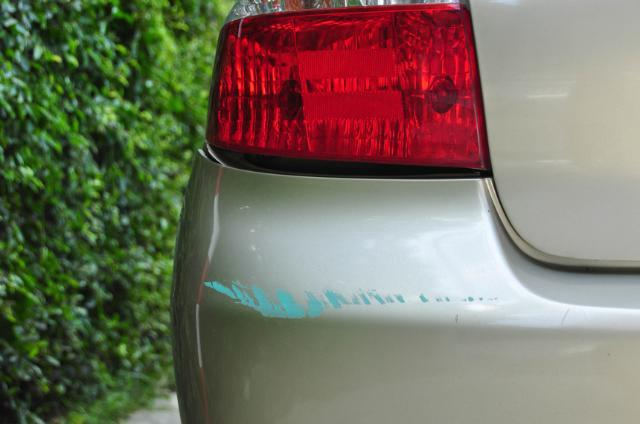Bumper: (154, 163, 640, 424)
